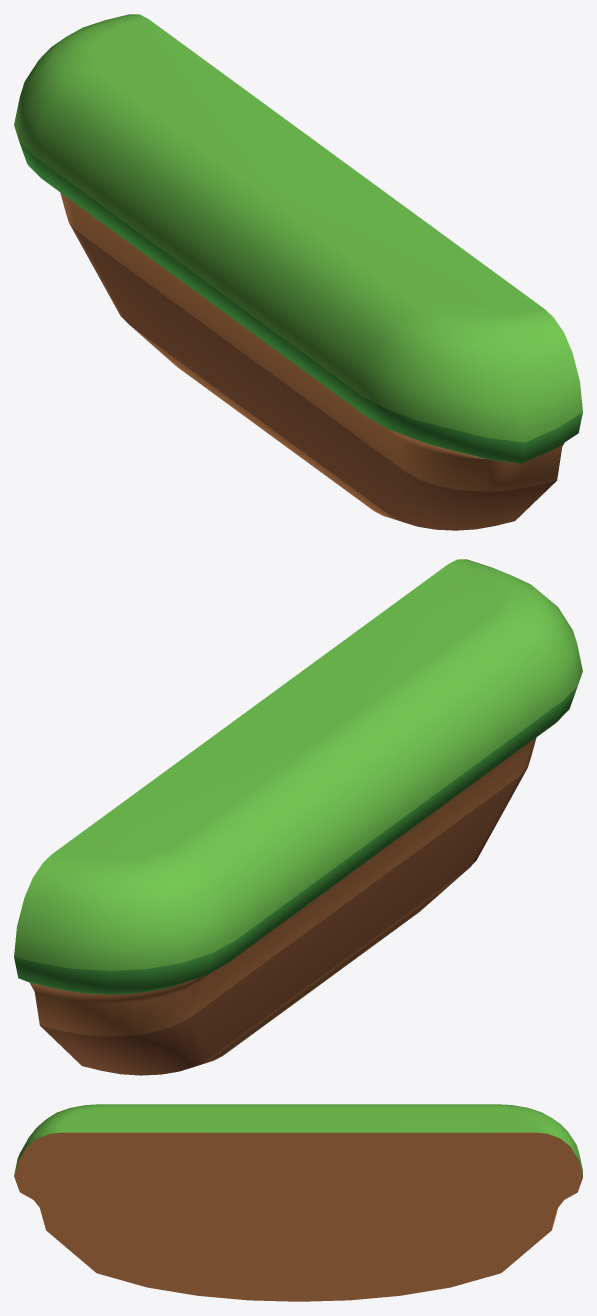
The model's file is float_cap_left.glb.
3 views of the same model, one above another, from view 1: azimuth 30°, elevation 25°; view 2: azimuth 150°, elevation 25°; view 3: azimuth 270°, elevation 25° (orthographic). The views are drawn at different scales.
Visible parts, largest first — view 1: float_cap_left; view 2: float_cap_left; view 3: float_cap_left.
Part boxes in pixels (bbox=[...]): float_cap_left: bbox=[14, 14, 582, 530]; float_cap_left: bbox=[14, 559, 582, 1075]; float_cap_left: bbox=[14, 1104, 582, 1301].
Size of the model in its own units: 0.5 by 0.9 by 2.74.
